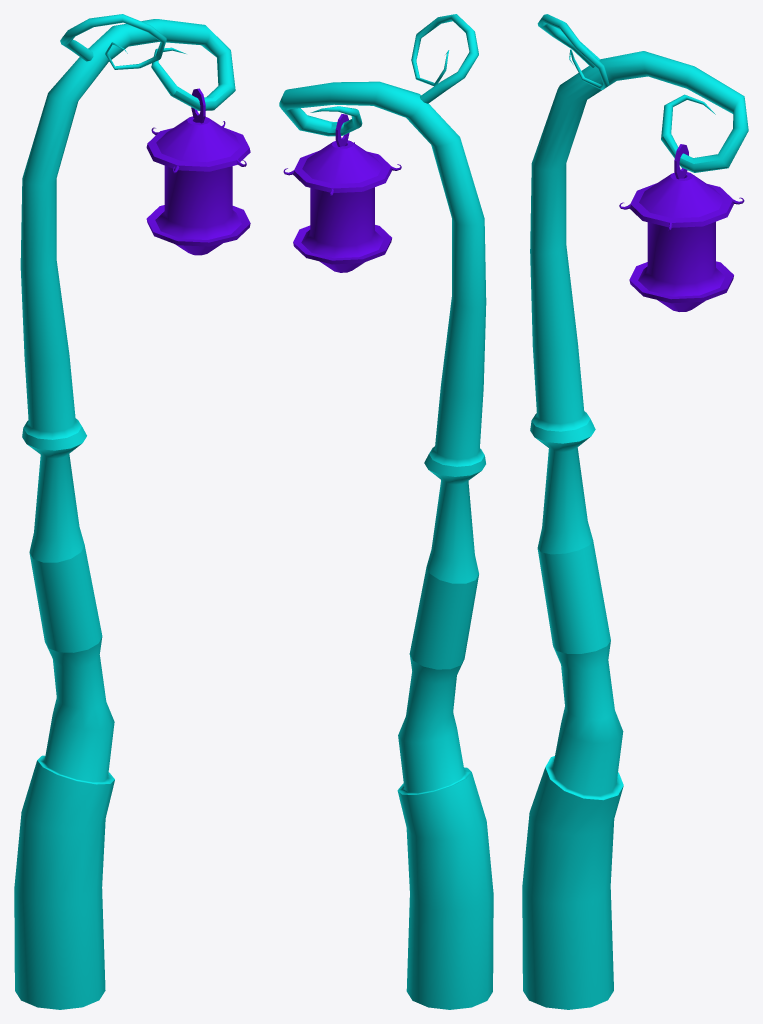
The model's file is lamp_post_anims.fbx.
3 views of the same model, side by side, from view 1: azimuth 30°, elevation 25°; view 2: azimuth 150°, elevation 25°; view 3: azimuth 330°, elevation 25° (orthographic). The views are drawn at different scales.
Visible parts, largest first — view 1: post, lamp; view 2: post, lamp; view 3: post, lamp.
Boxes of the visible parts, x1,y1,x2,y2 form: post: [14, 14, 235, 1009]; lamp: [146, 88, 250, 255]; post: [279, 14, 493, 1009]; lamp: [283, 114, 401, 272]; post: [522, 14, 748, 1009]; lamp: [619, 144, 744, 311].
Size of the model in its own units: 2.14 by 9.5 by 1.14.
